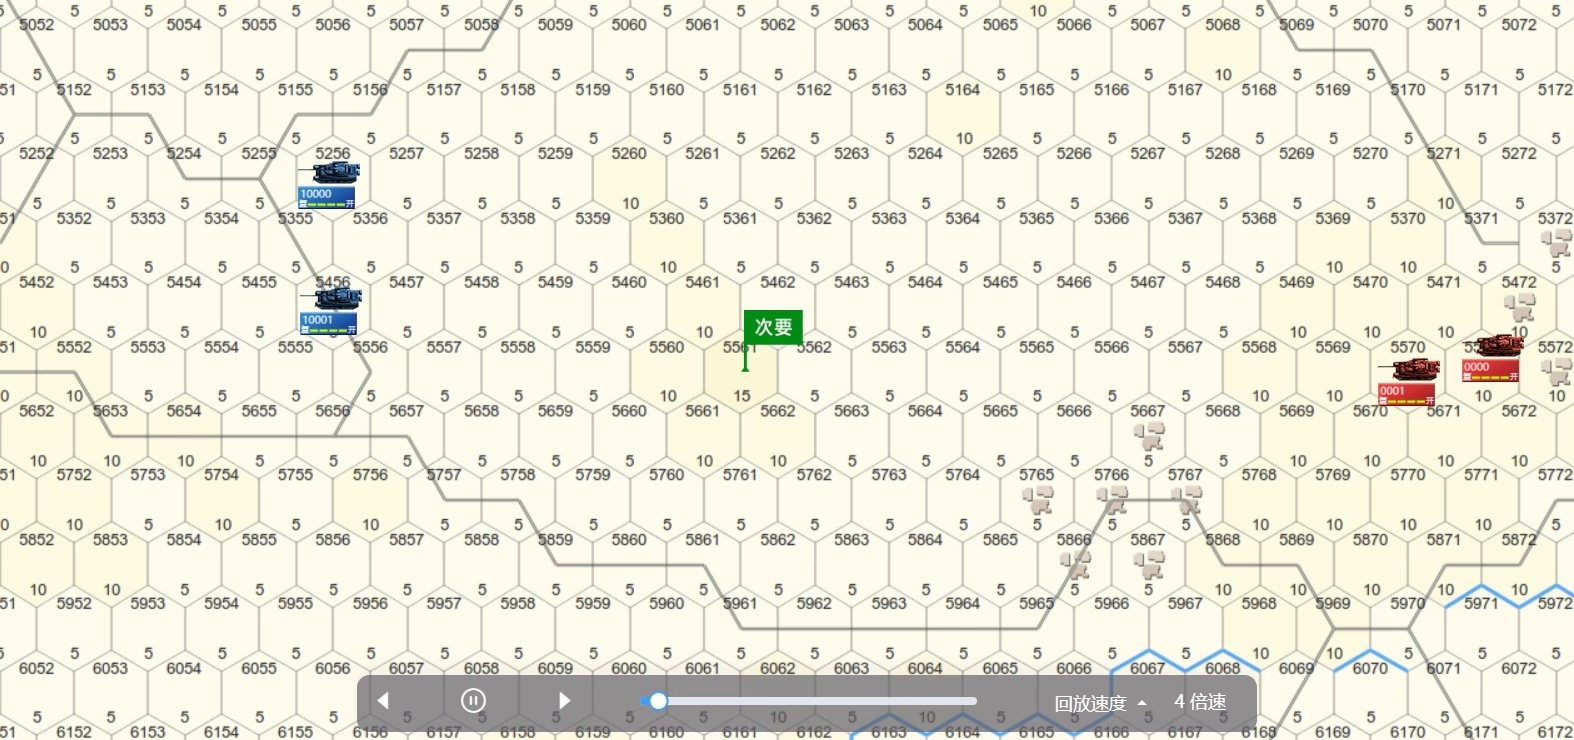blue_tank: (303, 290, 362, 334), (306, 160, 358, 206)
red_tank: (1375, 358, 1440, 410), (1457, 336, 1525, 385)
